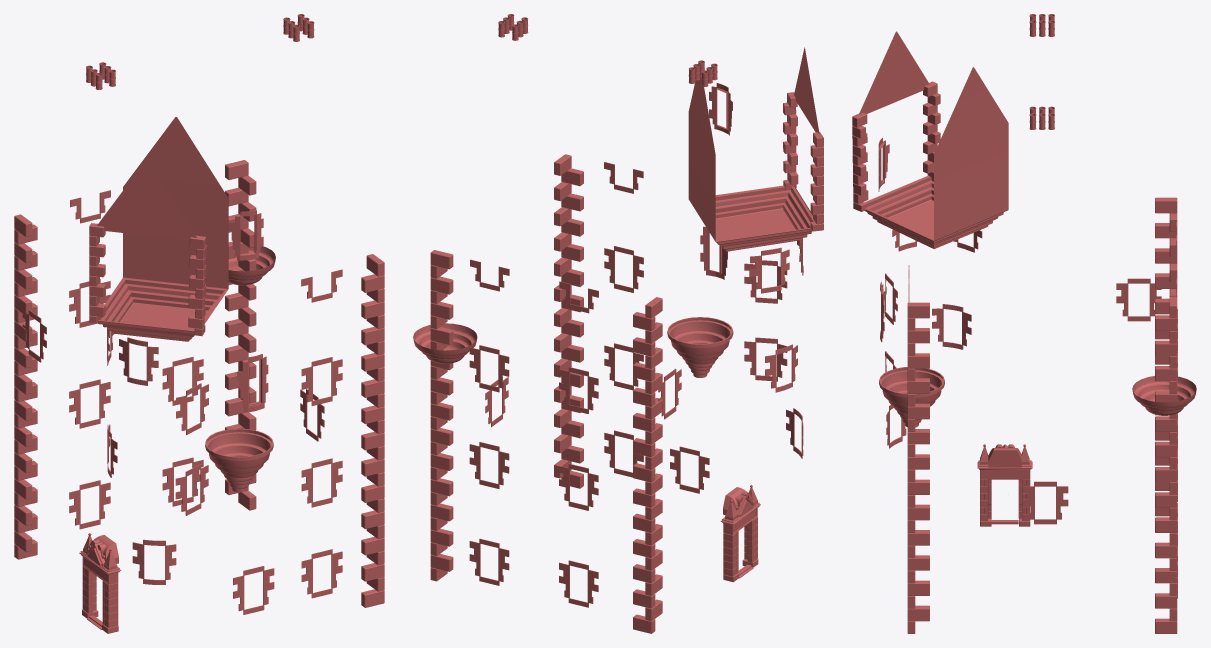
Rendered from FairyTale143.gltf.
The picture shows the model from 3 angles, left to right: view 1: azimuth 30°, elevation 25°; view 2: azimuth 150°, elevation 25°; view 3: azimuth 270°, elevation 25°; orthographic projection. The views are drawn at different scales.
Visible parts, largest first — view 1: HouseCastle_PlasterBrown; view 2: HouseCastle_PlasterBrown; view 3: HouseCastle_PlasterBrown.
Part boxes in pixels (x1=…): HouseCastle_PlasterBrown: x1=14, y1=14, x2=384, y2=633; HouseCastle_PlasterBrown: x1=413, y1=14, x2=823, y2=633; HouseCastle_PlasterBrown: x1=852, y1=14, x2=1196, y2=633.
Size of the model in its own units: 13.89 by 23.49 by 14.24.
